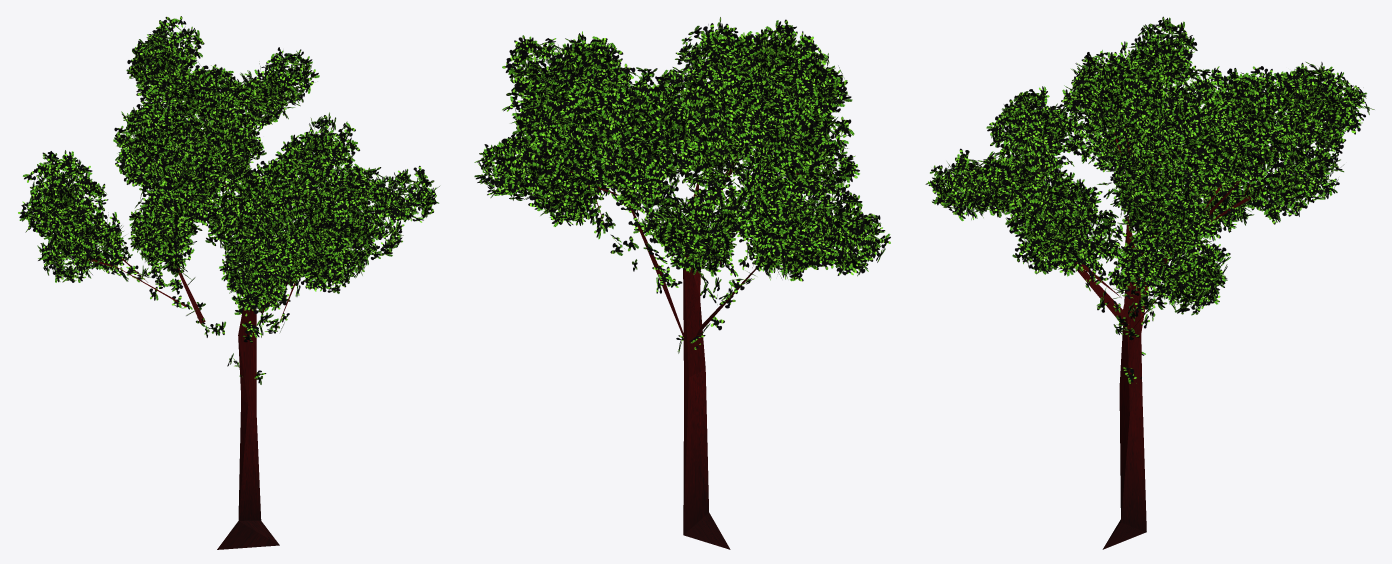
Rendered from emergent_fig_v02_LOD1.glb.
3 renders of one model, left to right at view 1: azimuth 30°, elevation 25°; view 2: azimuth 150°, elevation 25°; view 3: azimuth 270°, elevation 25°, orthographic. The views are drawn at different scales.
Visible parts, largest first — view 1: emergent_fig_v02_LOD1; view 2: emergent_fig_v02_LOD1; view 3: emergent_fig_v02_LOD1.
Part boxes in pixels (x1,y1,x2,y2): emergent_fig_v02_LOD1: [18, 16, 439, 549]; emergent_fig_v02_LOD1: [474, 17, 890, 549]; emergent_fig_v02_LOD1: [925, 16, 1374, 549].
Size of the model in its own units: 35.39 by 44.22 by 37.94.
Materials: 2 (2 with a texture image).
